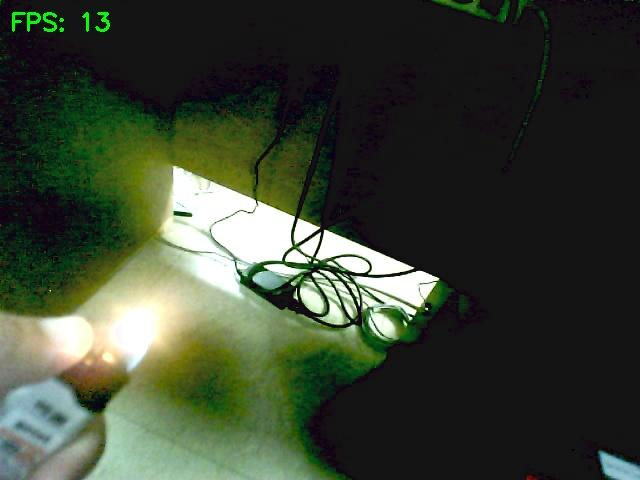fire: (110, 308, 155, 370)
